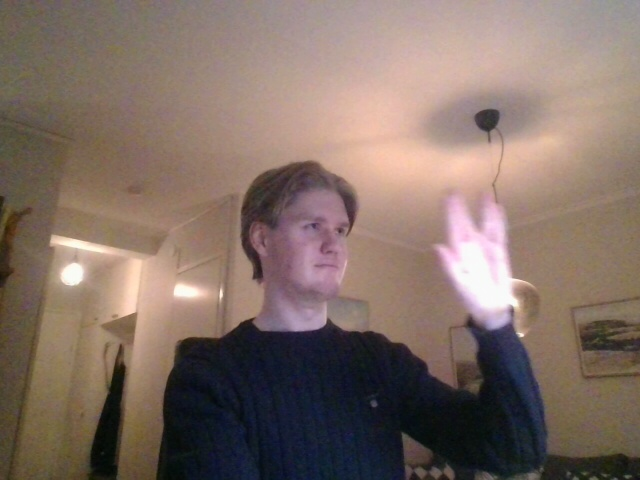LiveLong: (430, 189, 514, 311)
